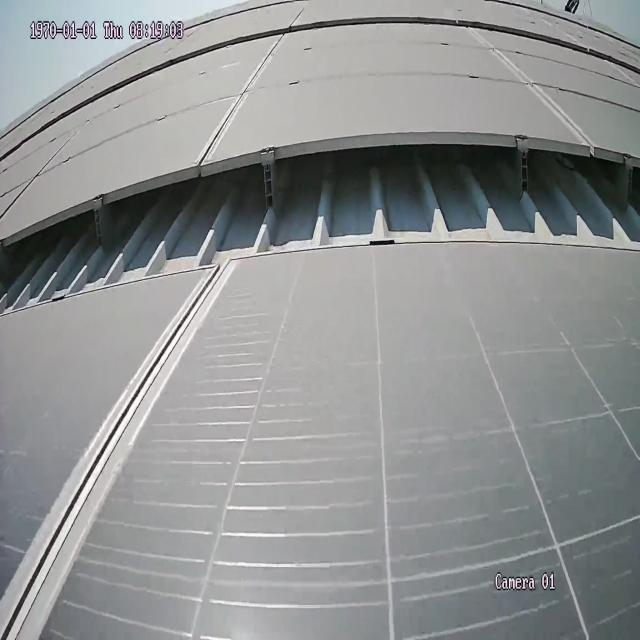interior panel: (1, 277, 224, 636), (476, 35, 591, 138), (201, 38, 286, 150)
outher panel: (0, 139, 639, 320)
